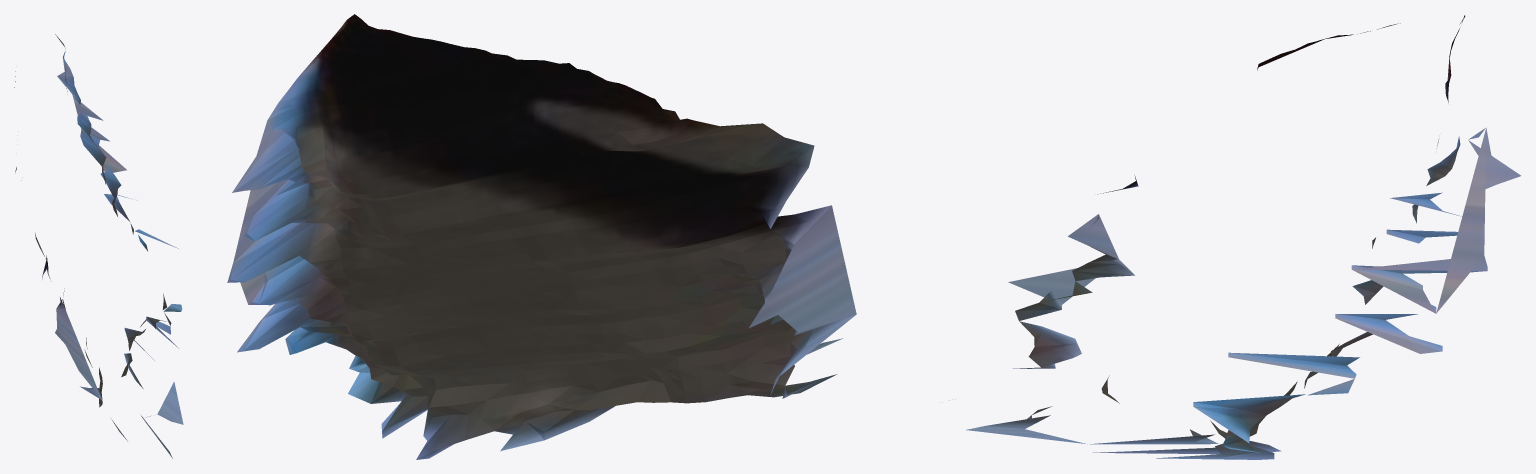
The model's file is observed-surface.glb.
3 renders of one model, left to right at view 1: azimuth 30°, elevation 25°; view 2: azimuth 150°, elevation 25°; view 3: azimuth 270°, elevation 25°, orthographic. The views are drawn at different scales.
Parts seen in each view (by area): view 1: geometry_0; view 2: geometry_0; view 3: geometry_0.
Part boxes in pixels (x1=…): geometry_0: x1=14, y1=34, x2=183, y2=458; geometry_0: x1=227, y1=14, x2=856, y2=459; geometry_0: x1=966, y1=15, x2=1520, y2=459.
Bounding box in the file's own units: 0.2611 × 0.3951 × 0.5212.
Materials: 1 (1 with a texture image).
